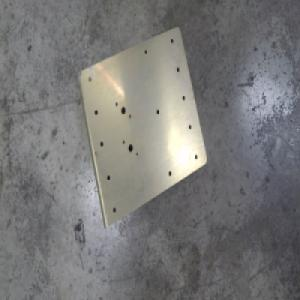MetalSheet: (74, 24, 207, 232)
